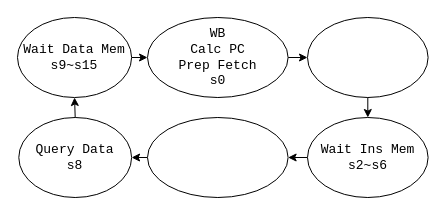
Some shapes in this 446 by 215 pixel diagram are drawn without their labels. Here are the shapes that lost their labels. From the top down, the box of each, then its label:
(306, 16, 428, 98): Query Ins s1
(146, 116, 288, 198): Decode ALU MEM s7
